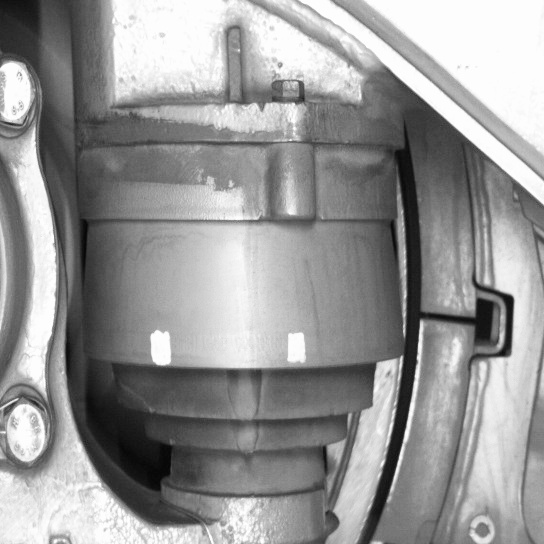KnifeSwitch: (353, 141, 491, 541)
